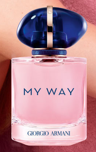armani_my_way_floral: (9, 4, 90, 145)
